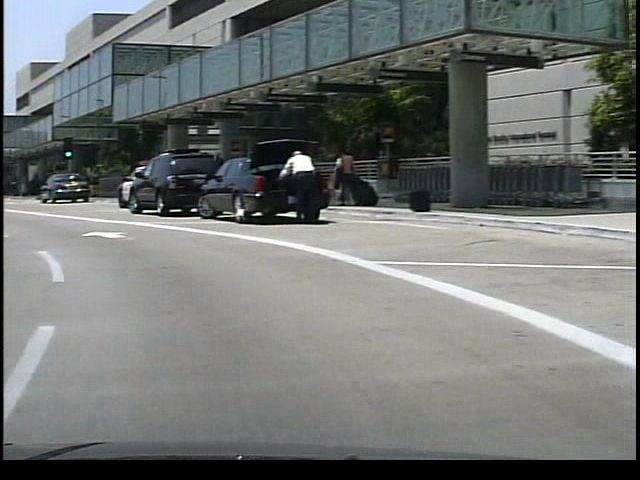person: (272, 147, 319, 229), (332, 146, 353, 210), (327, 146, 347, 211)
